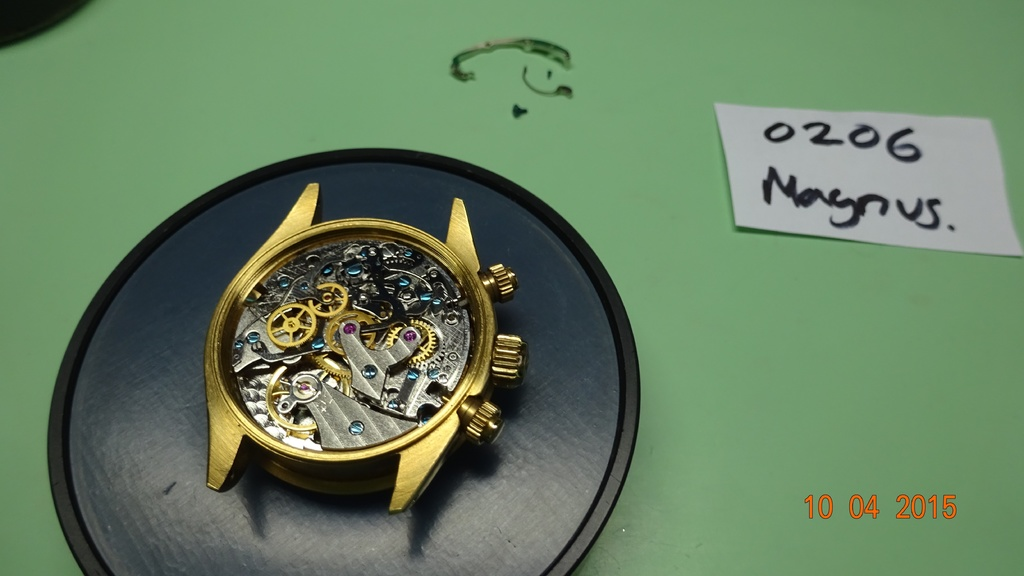watch: (208, 182, 524, 513)
